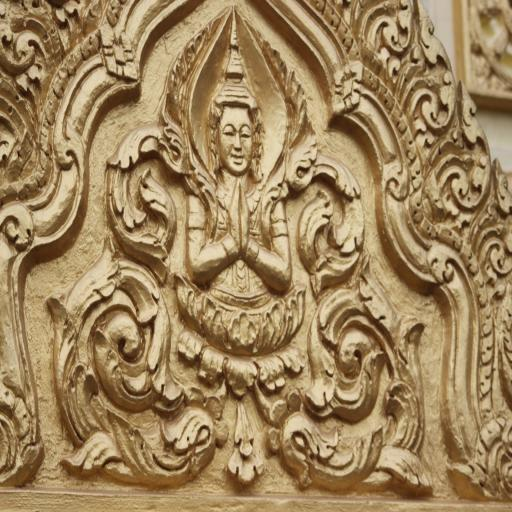la: (52, 262, 215, 484), (285, 304, 423, 493), (102, 116, 176, 260), (301, 151, 367, 296), (447, 77, 487, 220), (479, 165, 512, 311), (417, 19, 452, 155), (224, 390, 266, 489), (363, 0, 411, 66)
ran: (177, 46, 307, 362)
